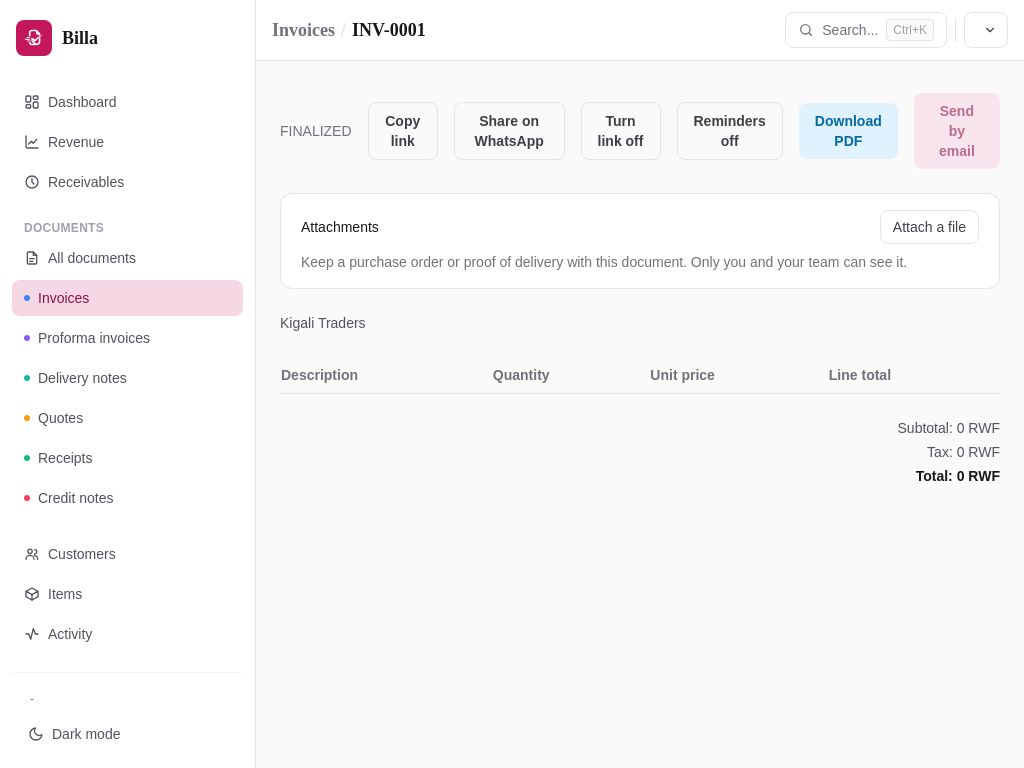
DocumentView › turns the public link off and back on, and says so
Click the button "Turn link off": point(620, 131) [580,102,660,160]
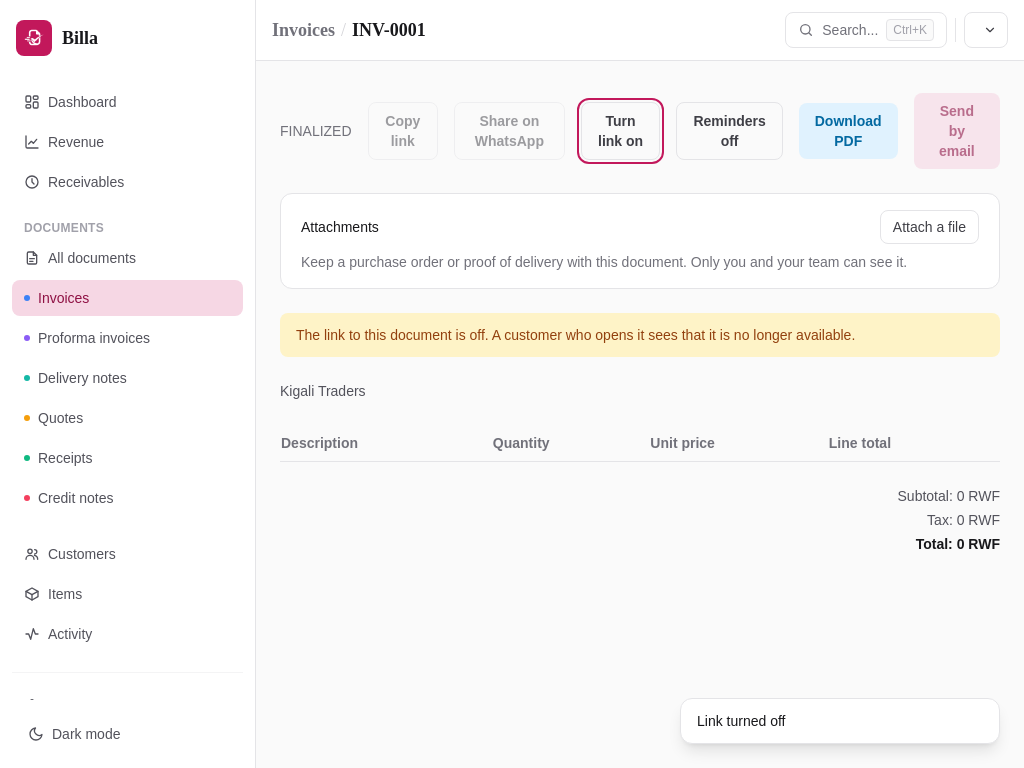
Check: the text "The link to this document is off" is shown, box [296,327,855,343]
Check: the button "Copy link" is disabled, box [368,102,438,160]
Check: the button "Share on WhatsApp" is disabled, box [454,102,565,160]
Click the button "Turn link on": point(621, 131) [581,102,660,160]
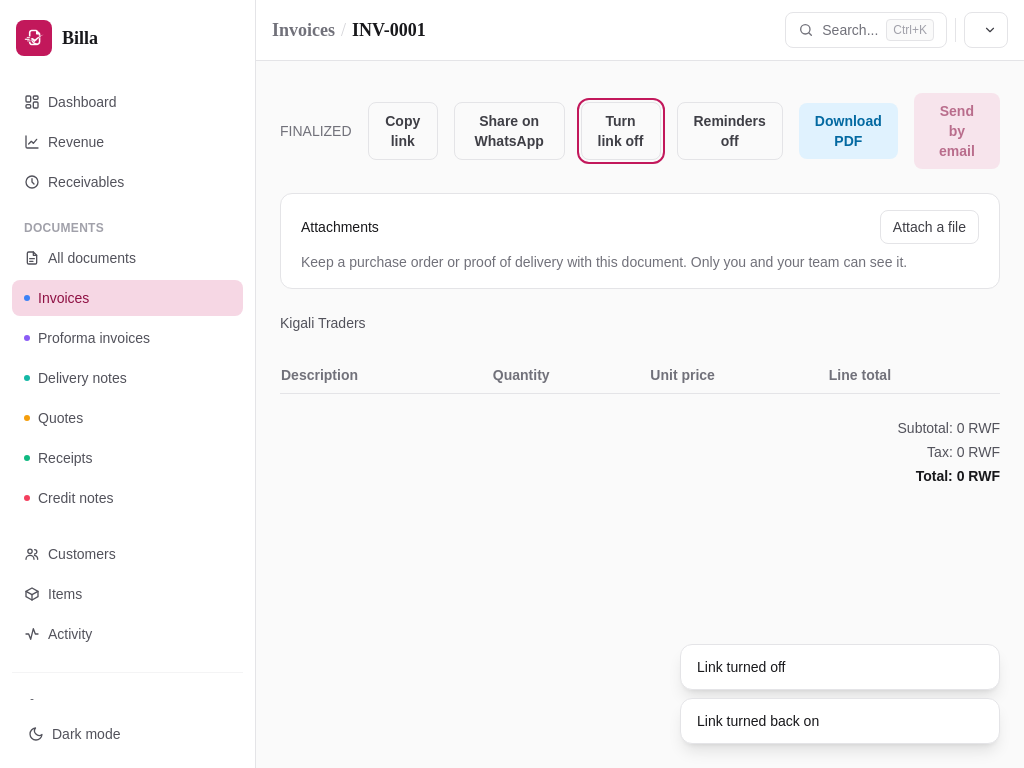
Check: the text "The link to this document is off" is gone
Check: the button "Copy link" is enabled, box [368,102,438,160]
